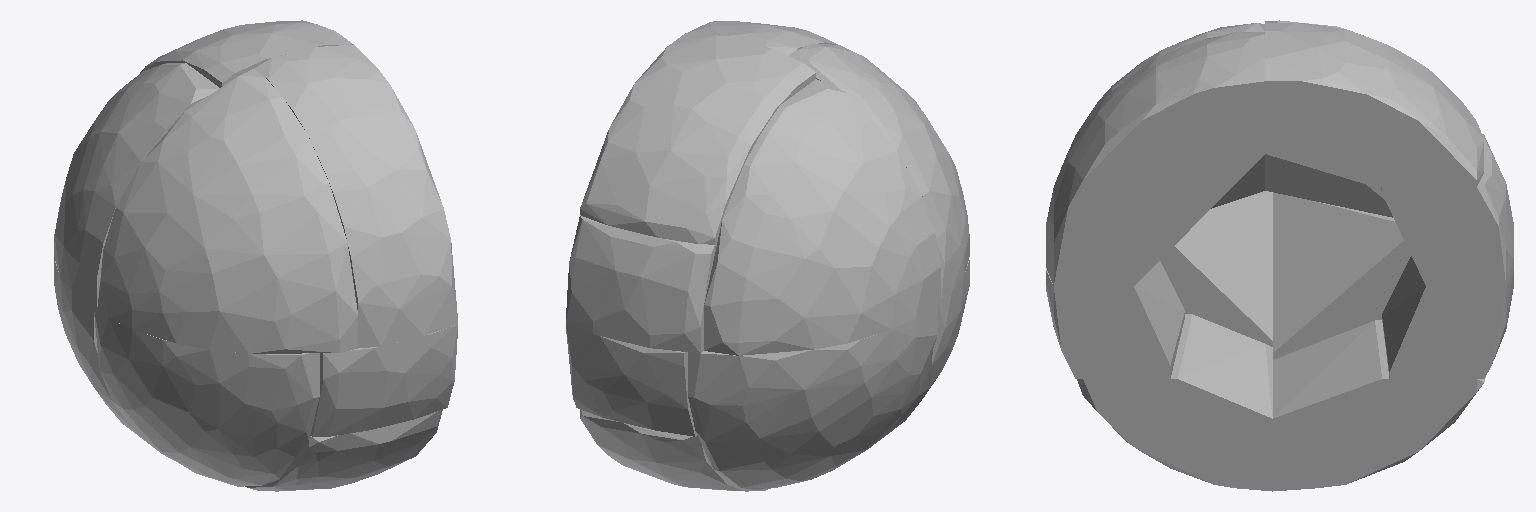
URDF robot description (root):
<robot name="root">
  <link name="link_f44301a26ca7f57c70d5704d62bc4186_convex_piece_0">
    <inertial>
      <origin rpy="0 0 0" xyz="0 0 0"/>
      <mass value="1.87E-06"/>
      <inertia ixx="3.43E-10" ixy="8.14E-11" ixz="7.66E-11" iyy="2.48E-10" iyz="1.14E-10" izz="2.59E-10"/>
    </inertial>
    <visual>
      <origin rpy="0 0 0" xyz="0 0 0"/>
      <geometry>
        <mesh filename="f44301a26ca7f57c70d5704d62bc4186_convex_piece_0.obj" scale="1.0000E+00"/>
      </geometry>
      <material name="">
        <color rgba="7.50E-01 7.50E-01 7.50E-01 1"/>
      </material>
    </visual>
    <collision>
      <origin rpy="0 0 0" xyz="0 0 0"/>
      <geometry>
        <mesh filename="f44301a26ca7f57c70d5704d62bc4186_convex_piece_0.obj" scale="1.0000E+00"/>
      </geometry>
    </collision>
  </link>
  <link name="link_f44301a26ca7f57c70d5704d62bc4186_convex_piece_1">
    <inertial>
      <origin rpy="0 0 0" xyz="0 0 0"/>
      <mass value="2.40E-06"/>
      <inertia ixx="4.54E-10" ixy="-8.11E-11" ixz="8.63E-11" iyy="3.27E-10" iyz="-1.42E-10" izz="3.14E-10"/>
    </inertial>
    <visual>
      <origin rpy="0 0 0" xyz="0 0 0"/>
      <geometry>
        <mesh filename="f44301a26ca7f57c70d5704d62bc4186_convex_piece_1.obj" scale="1.0000E+00"/>
      </geometry>
      <material name="">
        <color rgba="7.50E-01 7.50E-01 7.50E-01 1"/>
      </material>
    </visual>
    <collision>
      <origin rpy="0 0 0" xyz="0 0 0"/>
      <geometry>
        <mesh filename="f44301a26ca7f57c70d5704d62bc4186_convex_piece_1.obj" scale="1.0000E+00"/>
      </geometry>
    </collision>
  </link>
  <joint name="link_f44301a26ca7f57c70d5704d62bc4186_convex_piece_1_joint" type="fixed">
    <origin rpy="0 0 0" xyz="0 0 0"/>
    <parent link="link_f44301a26ca7f57c70d5704d62bc4186_convex_piece_0"/>
    <child link="link_f44301a26ca7f57c70d5704d62bc4186_convex_piece_1"/>
  </joint>
  <link name="link_f44301a26ca7f57c70d5704d62bc4186_convex_piece_2">
    <inertial>
      <origin rpy="0 0 0" xyz="0 0 0"/>
      <mass value="2.51E-06"/>
      <inertia ixx="5.43E-10" ixy="7.04E-11" ixz="-6.14E-11" iyy="3.32E-10" iyz="-1.84E-10" izz="3.65E-10"/>
    </inertial>
    <visual>
      <origin rpy="0 0 0" xyz="0 0 0"/>
      <geometry>
        <mesh filename="f44301a26ca7f57c70d5704d62bc4186_convex_piece_2.obj" scale="1.0000E+00"/>
      </geometry>
      <material name="">
        <color rgba="7.50E-01 7.50E-01 7.50E-01 1"/>
      </material>
    </visual>
    <collision>
      <origin rpy="0 0 0" xyz="0 0 0"/>
      <geometry>
        <mesh filename="f44301a26ca7f57c70d5704d62bc4186_convex_piece_2.obj" scale="1.0000E+00"/>
      </geometry>
    </collision>
  </link>
  <joint name="link_f44301a26ca7f57c70d5704d62bc4186_convex_piece_2_joint" type="fixed">
    <origin rpy="0 0 0" xyz="0 0 0"/>
    <parent link="link_f44301a26ca7f57c70d5704d62bc4186_convex_piece_1"/>
    <child link="link_f44301a26ca7f57c70d5704d62bc4186_convex_piece_2"/>
  </joint>
  <link name="link_f44301a26ca7f57c70d5704d62bc4186_convex_piece_3">
    <inertial>
      <origin rpy="0 0 0" xyz="0 0 0"/>
      <mass value="2.16E-06"/>
      <inertia ixx="7.22E-10" ixy="-2.31E-10" ixz="2.14E-10" iyy="5.32E-10" iyz="-2.45E-10" izz="5.67E-10"/>
    </inertial>
    <visual>
      <origin rpy="0 0 0" xyz="0 0 0"/>
      <geometry>
        <mesh filename="f44301a26ca7f57c70d5704d62bc4186_convex_piece_3.obj" scale="1.0000E+00"/>
      </geometry>
      <material name="">
        <color rgba="7.50E-01 7.50E-01 7.50E-01 1"/>
      </material>
    </visual>
    <collision>
      <origin rpy="0 0 0" xyz="0 0 0"/>
      <geometry>
        <mesh filename="f44301a26ca7f57c70d5704d62bc4186_convex_piece_3.obj" scale="1.0000E+00"/>
      </geometry>
    </collision>
  </link>
  <joint name="link_f44301a26ca7f57c70d5704d62bc4186_convex_piece_3_joint" type="fixed">
    <origin rpy="0 0 0" xyz="0 0 0"/>
    <parent link="link_f44301a26ca7f57c70d5704d62bc4186_convex_piece_2"/>
    <child link="link_f44301a26ca7f57c70d5704d62bc4186_convex_piece_3"/>
  </joint>
  <link name="link_f44301a26ca7f57c70d5704d62bc4186_convex_piece_4">
    <inertial>
      <origin rpy="0 0 0" xyz="0 0 0"/>
      <mass value="2.17E-06"/>
      <inertia ixx="3.77E-10" ixy="-8.10E-11" ixz="-9.25E-11" iyy="3.00E-10" iyz="1.13E-10" izz="2.77E-10"/>
    </inertial>
    <visual>
      <origin rpy="0 0 0" xyz="0 0 0"/>
      <geometry>
        <mesh filename="f44301a26ca7f57c70d5704d62bc4186_convex_piece_4.obj" scale="1.0000E+00"/>
      </geometry>
      <material name="">
        <color rgba="7.50E-01 7.50E-01 7.50E-01 1"/>
      </material>
    </visual>
    <collision>
      <origin rpy="0 0 0" xyz="0 0 0"/>
      <geometry>
        <mesh filename="f44301a26ca7f57c70d5704d62bc4186_convex_piece_4.obj" scale="1.0000E+00"/>
      </geometry>
    </collision>
  </link>
  <joint name="link_f44301a26ca7f57c70d5704d62bc4186_convex_piece_4_joint" type="fixed">
    <origin rpy="0 0 0" xyz="0 0 0"/>
    <parent link="link_f44301a26ca7f57c70d5704d62bc4186_convex_piece_3"/>
    <child link="link_f44301a26ca7f57c70d5704d62bc4186_convex_piece_4"/>
  </joint>
  <link name="link_f44301a26ca7f57c70d5704d62bc4186_convex_piece_5">
    <inertial>
      <origin rpy="0 0 0" xyz="0 0 0"/>
      <mass value="1.62E-06"/>
      <inertia ixx="5.79E-10" ixy="-1.05E-10" ixz="-1.81E-10" iyy="5.18E-10" iyz="2.14E-10" izz="2.78E-10"/>
    </inertial>
    <visual>
      <origin rpy="0 0 0" xyz="0 0 0"/>
      <geometry>
        <mesh filename="f44301a26ca7f57c70d5704d62bc4186_convex_piece_5.obj" scale="1.0000E+00"/>
      </geometry>
      <material name="">
        <color rgba="7.50E-01 7.50E-01 7.50E-01 1"/>
      </material>
    </visual>
    <collision>
      <origin rpy="0 0 0" xyz="0 0 0"/>
      <geometry>
        <mesh filename="f44301a26ca7f57c70d5704d62bc4186_convex_piece_5.obj" scale="1.0000E+00"/>
      </geometry>
    </collision>
  </link>
  <joint name="link_f44301a26ca7f57c70d5704d62bc4186_convex_piece_5_joint" type="fixed">
    <origin rpy="0 0 0" xyz="0 0 0"/>
    <parent link="link_f44301a26ca7f57c70d5704d62bc4186_convex_piece_4"/>
    <child link="link_f44301a26ca7f57c70d5704d62bc4186_convex_piece_5"/>
  </joint>
  <link name="link_f44301a26ca7f57c70d5704d62bc4186_convex_piece_6">
    <inertial>
      <origin rpy="0 0 0" xyz="0 0 0"/>
      <mass value="1.02E-06"/>
      <inertia ixx="3.33E-10" ixy="-1.22E-10" ixz="-3.72E-11" iyy="1.03E-10" iyz="8.61E-11" izz="3.65E-10"/>
    </inertial>
    <visual>
      <origin rpy="0 0 0" xyz="0 0 0"/>
      <geometry>
        <mesh filename="f44301a26ca7f57c70d5704d62bc4186_convex_piece_6.obj" scale="1.0000E+00"/>
      </geometry>
      <material name="">
        <color rgba="7.50E-01 7.50E-01 7.50E-01 1"/>
      </material>
    </visual>
    <collision>
      <origin rpy="0 0 0" xyz="0 0 0"/>
      <geometry>
        <mesh filename="f44301a26ca7f57c70d5704d62bc4186_convex_piece_6.obj" scale="1.0000E+00"/>
      </geometry>
    </collision>
  </link>
  <joint name="link_f44301a26ca7f57c70d5704d62bc4186_convex_piece_6_joint" type="fixed">
    <origin rpy="0 0 0" xyz="0 0 0"/>
    <parent link="link_f44301a26ca7f57c70d5704d62bc4186_convex_piece_5"/>
    <child link="link_f44301a26ca7f57c70d5704d62bc4186_convex_piece_6"/>
  </joint>
  <link name="link_f44301a26ca7f57c70d5704d62bc4186_convex_piece_7">
    <inertial>
      <origin rpy="0 0 0" xyz="0 0 0"/>
      <mass value="1.60E-06"/>
      <inertia ixx="5.73E-10" ixy="1.05E-10" ixz="-1.97E-10" iyy="5.33E-10" iyz="-1.97E-10" izz="2.75E-10"/>
    </inertial>
    <visual>
      <origin rpy="0 0 0" xyz="0 0 0"/>
      <geometry>
        <mesh filename="f44301a26ca7f57c70d5704d62bc4186_convex_piece_7.obj" scale="1.0000E+00"/>
      </geometry>
      <material name="">
        <color rgba="7.50E-01 7.50E-01 7.50E-01 1"/>
      </material>
    </visual>
    <collision>
      <origin rpy="0 0 0" xyz="0 0 0"/>
      <geometry>
        <mesh filename="f44301a26ca7f57c70d5704d62bc4186_convex_piece_7.obj" scale="1.0000E+00"/>
      </geometry>
    </collision>
  </link>
  <joint name="link_f44301a26ca7f57c70d5704d62bc4186_convex_piece_7_joint" type="fixed">
    <origin rpy="0 0 0" xyz="0 0 0"/>
    <parent link="link_f44301a26ca7f57c70d5704d62bc4186_convex_piece_6"/>
    <child link="link_f44301a26ca7f57c70d5704d62bc4186_convex_piece_7"/>
  </joint>
  <link name="link_f44301a26ca7f57c70d5704d62bc4186_convex_piece_8">
    <inertial>
      <origin rpy="0 0 0" xyz="0 0 0"/>
      <mass value="8.93E-07"/>
      <inertia ixx="2.97E-10" ixy="1.18E-10" ixz="-3.59E-11" iyy="9.67E-11" iyz="-7.64E-11" izz="3.32E-10"/>
    </inertial>
    <visual>
      <origin rpy="0 0 0" xyz="0 0 0"/>
      <geometry>
        <mesh filename="f44301a26ca7f57c70d5704d62bc4186_convex_piece_8.obj" scale="1.0000E+00"/>
      </geometry>
      <material name="">
        <color rgba="7.50E-01 7.50E-01 7.50E-01 1"/>
      </material>
    </visual>
    <collision>
      <origin rpy="0 0 0" xyz="0 0 0"/>
      <geometry>
        <mesh filename="f44301a26ca7f57c70d5704d62bc4186_convex_piece_8.obj" scale="1.0000E+00"/>
      </geometry>
    </collision>
  </link>
  <joint name="link_f44301a26ca7f57c70d5704d62bc4186_convex_piece_8_joint" type="fixed">
    <origin rpy="0 0 0" xyz="0 0 0"/>
    <parent link="link_f44301a26ca7f57c70d5704d62bc4186_convex_piece_7"/>
    <child link="link_f44301a26ca7f57c70d5704d62bc4186_convex_piece_8"/>
  </joint>
  <link name="link_f44301a26ca7f57c70d5704d62bc4186_convex_piece_9">
    <inertial>
      <origin rpy="0 0 0" xyz="0 0 0"/>
      <mass value="1.12E-06"/>
      <inertia ixx="3.62E-10" ixy="1.31E-10" ixz="4.36E-11" iyy="1.18E-10" iyz="9.92E-11" izz="3.90E-10"/>
    </inertial>
    <visual>
      <origin rpy="0 0 0" xyz="0 0 0"/>
      <geometry>
        <mesh filename="f44301a26ca7f57c70d5704d62bc4186_convex_piece_9.obj" scale="1.0000E+00"/>
      </geometry>
      <material name="">
        <color rgba="7.50E-01 7.50E-01 7.50E-01 1"/>
      </material>
    </visual>
    <collision>
      <origin rpy="0 0 0" xyz="0 0 0"/>
      <geometry>
        <mesh filename="f44301a26ca7f57c70d5704d62bc4186_convex_piece_9.obj" scale="1.0000E+00"/>
      </geometry>
    </collision>
  </link>
  <joint name="link_f44301a26ca7f57c70d5704d62bc4186_convex_piece_9_joint" type="fixed">
    <origin rpy="0 0 0" xyz="0 0 0"/>
    <parent link="link_f44301a26ca7f57c70d5704d62bc4186_convex_piece_8"/>
    <child link="link_f44301a26ca7f57c70d5704d62bc4186_convex_piece_9"/>
  </joint>
  <link name="link_f44301a26ca7f57c70d5704d62bc4186_convex_piece_10">
    <inertial>
      <origin rpy="0 0 0" xyz="0 0 0"/>
      <mass value="1.74E-06"/>
      <inertia ixx="6.20E-10" ixy="9.63E-11" ixz="2.01E-10" iyy="5.84E-10" iyz="2.01E-10" izz="2.69E-10"/>
    </inertial>
    <visual>
      <origin rpy="0 0 0" xyz="0 0 0"/>
      <geometry>
        <mesh filename="f44301a26ca7f57c70d5704d62bc4186_convex_piece_10.obj" scale="1.0000E+00"/>
      </geometry>
      <material name="">
        <color rgba="7.50E-01 7.50E-01 7.50E-01 1"/>
      </material>
    </visual>
    <collision>
      <origin rpy="0 0 0" xyz="0 0 0"/>
      <geometry>
        <mesh filename="f44301a26ca7f57c70d5704d62bc4186_convex_piece_10.obj" scale="1.0000E+00"/>
      </geometry>
    </collision>
  </link>
  <joint name="link_f44301a26ca7f57c70d5704d62bc4186_convex_piece_10_joint" type="fixed">
    <origin rpy="0 0 0" xyz="0 0 0"/>
    <parent link="link_f44301a26ca7f57c70d5704d62bc4186_convex_piece_9"/>
    <child link="link_f44301a26ca7f57c70d5704d62bc4186_convex_piece_10"/>
  </joint>
</robot>

--- What the picture shows (computed from the rendered views, not written in the file) ---
The picture shows the robot from 3 angles, left to right: view 1: azimuth 30°, elevation 25°; view 2: azimuth 150°, elevation 25°; view 3: azimuth 270°, elevation 25°; orthographic projection.
Robot: root — 11 links, 10 joints (10 fixed); root link link_f44301a26ca7f57c70d5704d62bc4186_convex_piece_0; default pose: every joint at zero.
Links seen in each view (by area): view 1: link_f44301a26ca7f57c70d5704d62bc4186_convex_piece_2, link_f44301a26ca7f57c70d5704d62bc4186_convex_piece_3, link_f44301a26ca7f57c70d5704d62bc4186_convex_piece_0, link_f44301a26ca7f57c70d5704d62bc4186_convex_piece_4, link_f44301a26ca7f57c70d5704d62bc4186_convex_piece_6, link_f44301a26ca7f57c70d5704d62bc4186_convex_piece_5, link_f44301a26ca7f57c70d5704d62bc4186_convex_piece_10, link_f44301a26ca7f57c70d5704d62bc4186_convex_piece_1; view 2: link_f44301a26ca7f57c70d5704d62bc4186_convex_piece_4, link_f44301a26ca7f57c70d5704d62bc4186_convex_piece_10, link_f44301a26ca7f57c70d5704d62bc4186_convex_piece_1, link_f44301a26ca7f57c70d5704d62bc4186_convex_piece_9, link_f44301a26ca7f57c70d5704d62bc4186_convex_piece_2, link_f44301a26ca7f57c70d5704d62bc4186_convex_piece_8, link_f44301a26ca7f57c70d5704d62bc4186_convex_piece_7, link_f44301a26ca7f57c70d5704d62bc4186_convex_piece_3, link_f44301a26ca7f57c70d5704d62bc4186_convex_piece_0; view 3: link_f44301a26ca7f57c70d5704d62bc4186_convex_piece_3, link_f44301a26ca7f57c70d5704d62bc4186_convex_piece_10, link_f44301a26ca7f57c70d5704d62bc4186_convex_piece_7, link_f44301a26ca7f57c70d5704d62bc4186_convex_piece_5, link_f44301a26ca7f57c70d5704d62bc4186_convex_piece_1, link_f44301a26ca7f57c70d5704d62bc4186_convex_piece_6, link_f44301a26ca7f57c70d5704d62bc4186_convex_piece_0, link_f44301a26ca7f57c70d5704d62bc4186_convex_piece_9, link_f44301a26ca7f57c70d5704d62bc4186_convex_piece_8, link_f44301a26ca7f57c70d5704d62bc4186_convex_piece_4, link_f44301a26ca7f57c70d5704d62bc4186_convex_piece_2.
Link boxes in pixels (<box>): link_f44301a26ca7f57c70d5704d62bc4186_convex_piece_2: <box>97,69,357,353</box>; link_f44301a26ca7f57c70d5704d62bc4186_convex_piece_3: <box>254,44,457,347</box>; link_f44301a26ca7f57c70d5704d62bc4186_convex_piece_0: <box>94,308,319,486</box>; link_f44301a26ca7f57c70d5704d62bc4186_convex_piece_4: <box>54,63,219,309</box>; link_f44301a26ca7f57c70d5704d62bc4186_convex_piece_6: <box>310,324,457,436</box>; link_f44301a26ca7f57c70d5704d62bc4186_convex_piece_5: <box>245,410,442,491</box>; link_f44301a26ca7f57c70d5704d62bc4186_convex_piece_10: <box>140,20,352,87</box>; link_f44301a26ca7f57c70d5704d62bc4186_convex_piece_1: <box>54,257,172,459</box>; link_f44301a26ca7f57c70d5704d62bc4186_convex_piece_4: <box>704,79,940,355</box>; link_f44301a26ca7f57c70d5704d62bc4186_convex_piece_10: <box>580,34,815,244</box>; link_f44301a26ca7f57c70d5704d62bc4186_convex_piece_1: <box>688,302,937,489</box>; link_f44301a26ca7f57c70d5704d62bc4186_convex_piece_9: <box>566,215,716,353</box>; link_f44301a26ca7f57c70d5704d62bc4186_convex_piece_2: <box>789,44,969,298</box>; link_f44301a26ca7f57c70d5704d62bc4186_convex_piece_8: <box>566,324,696,436</box>; link_f44301a26ca7f57c70d5704d62bc4186_convex_piece_7: <box>580,409,767,491</box>; link_f44301a26ca7f57c70d5704d62bc4186_convex_piece_3: <box>685,21,837,55</box>; link_f44301a26ca7f57c70d5704d62bc4186_convex_piece_0: <box>879,260,969,440</box>; link_f44301a26ca7f57c70d5704d62bc4186_convex_piece_3: <box>1046,32,1264,285</box>; link_f44301a26ca7f57c70d5704d62bc4186_convex_piece_10: <box>1265,23,1483,186</box>; link_f44301a26ca7f57c70d5704d62bc4186_convex_piece_7: <box>1273,320,1485,490</box>; link_f44301a26ca7f57c70d5704d62bc4186_convex_piece_5: <box>1077,314,1272,491</box>; link_f44301a26ca7f57c70d5704d62bc4186_convex_piece_1: <box>1273,192,1410,359</box>; link_f44301a26ca7f57c70d5704d62bc4186_convex_piece_6: <box>1046,261,1184,378</box>; link_f44301a26ca7f57c70d5704d62bc4186_convex_piece_0: <box>1160,191,1272,346</box>; link_f44301a26ca7f57c70d5704d62bc4186_convex_piece_9: <box>1381,134,1513,285</box>; link_f44301a26ca7f57c70d5704d62bc4186_convex_piece_8: <box>1382,256,1513,378</box>; link_f44301a26ca7f57c70d5704d62bc4186_convex_piece_4: <box>1265,20,1392,217</box>; link_f44301a26ca7f57c70d5704d62bc4186_convex_piece_2: <box>1061,23,1264,208</box>.
Bounding box of the posed robot: 0.0293 × 0.0457 × 0.0457 m (x, y, z).
11 mesh visuals loaded from 11 distinct referenced files (11 OBJ).